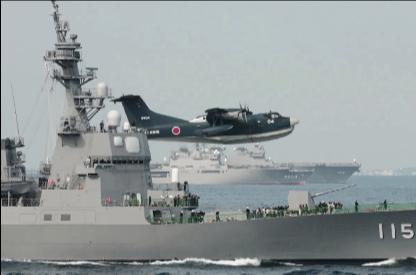Tu95: (108, 92, 298, 144)
